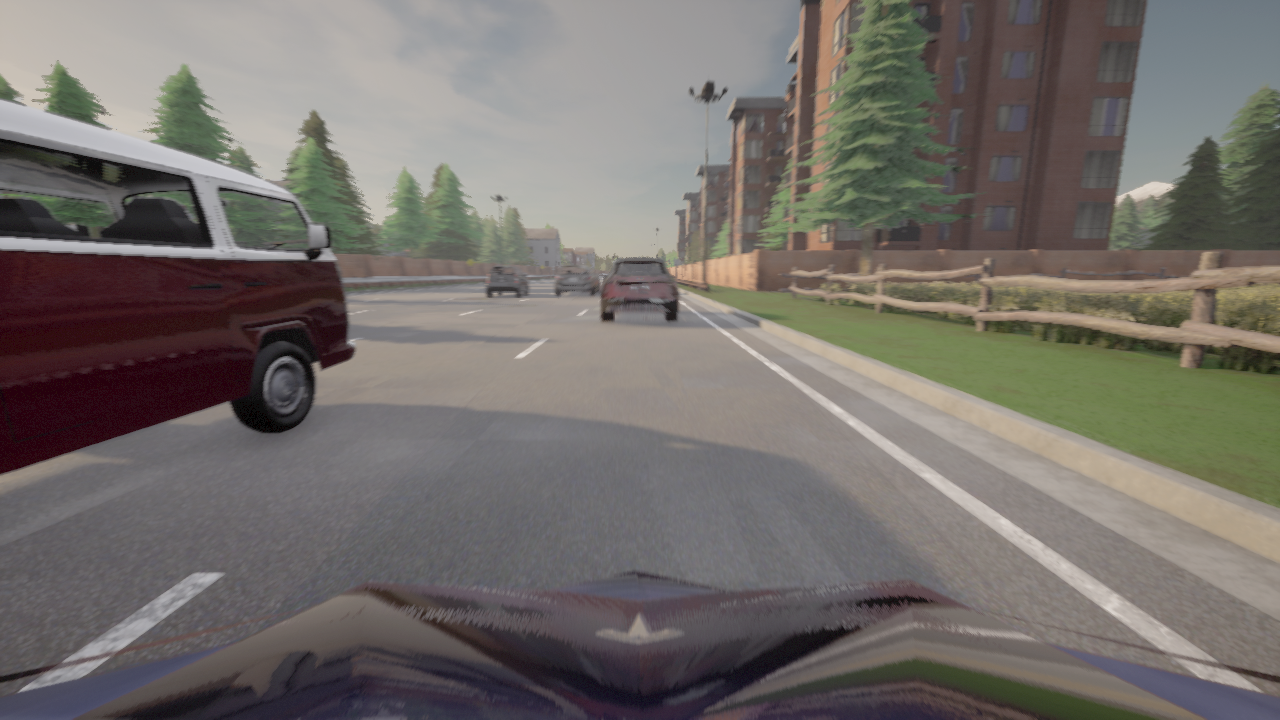cyclist: (0, 569, 1279, 719), (600, 257, 678, 321), (485, 265, 527, 296), (555, 265, 599, 294)
